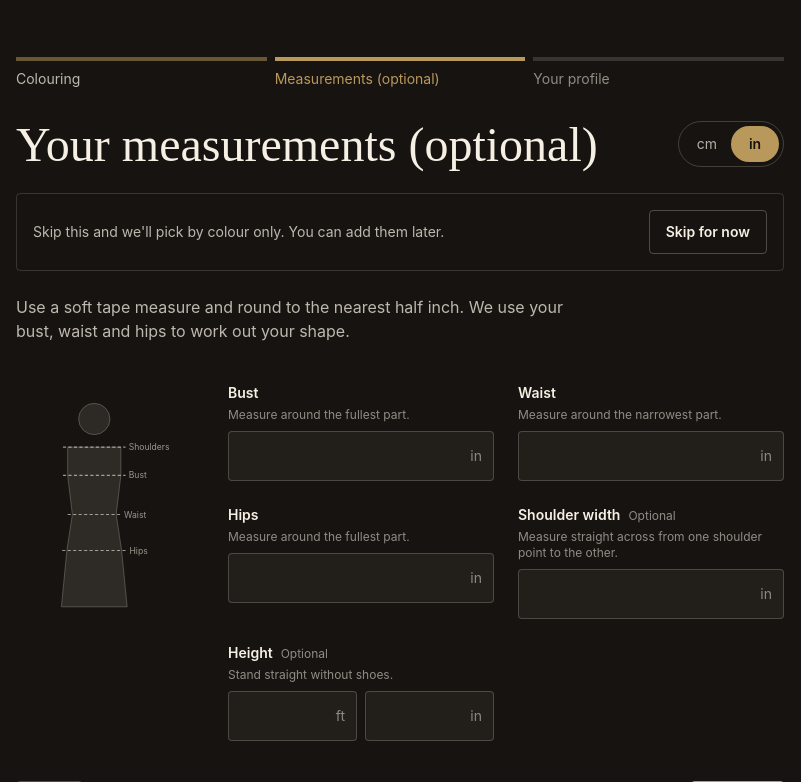
measurement units › states the allowed range in the chosen unit
This screenshot has width=801, height=782.
Type "10" into the number field labelled "Bust Measure around the fullest part. in" at (361, 456), box top-left (228, 431), bottom-right (494, 481)
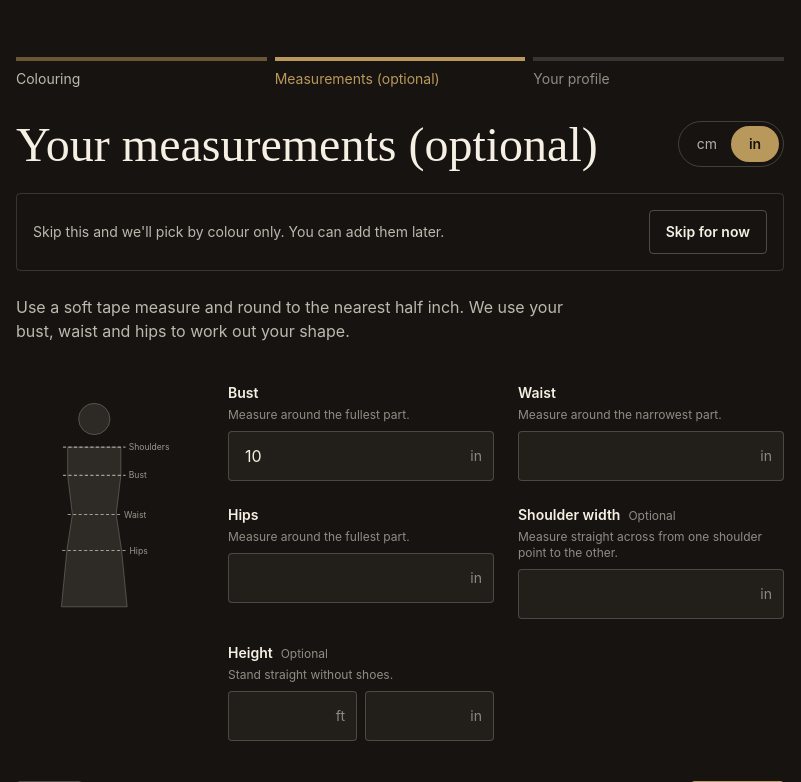
Type "28" into the number field labelled "Waist Measure around the narrowest part. in" at (651, 456), box top-left (518, 431), bottom-right (784, 481)
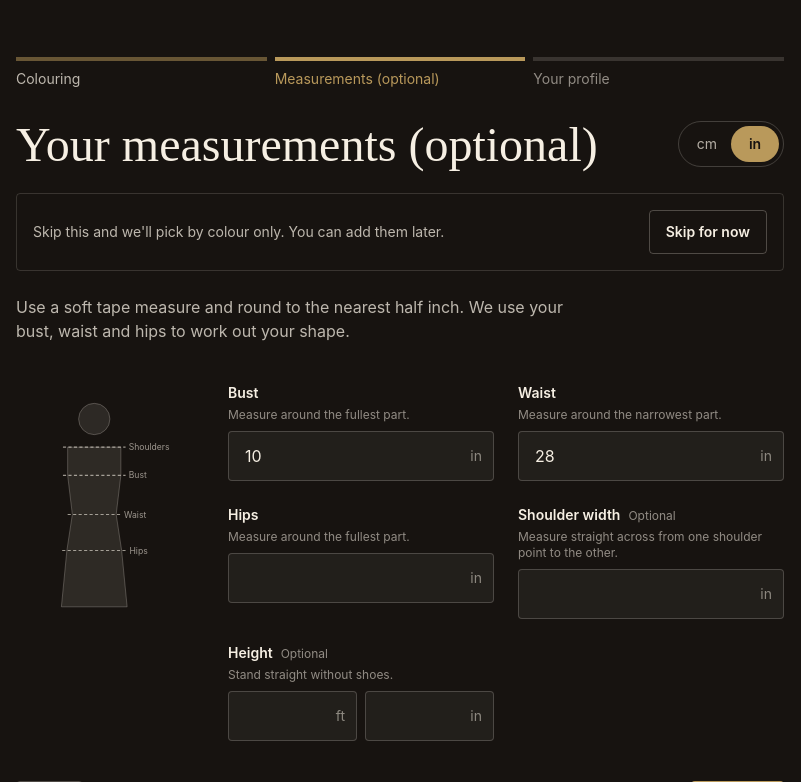
Type "38" into the number field labelled "Hips Measure around the fullest part. in" at (361, 578), box top-left (228, 553), bottom-right (494, 603)
(page scrolled)
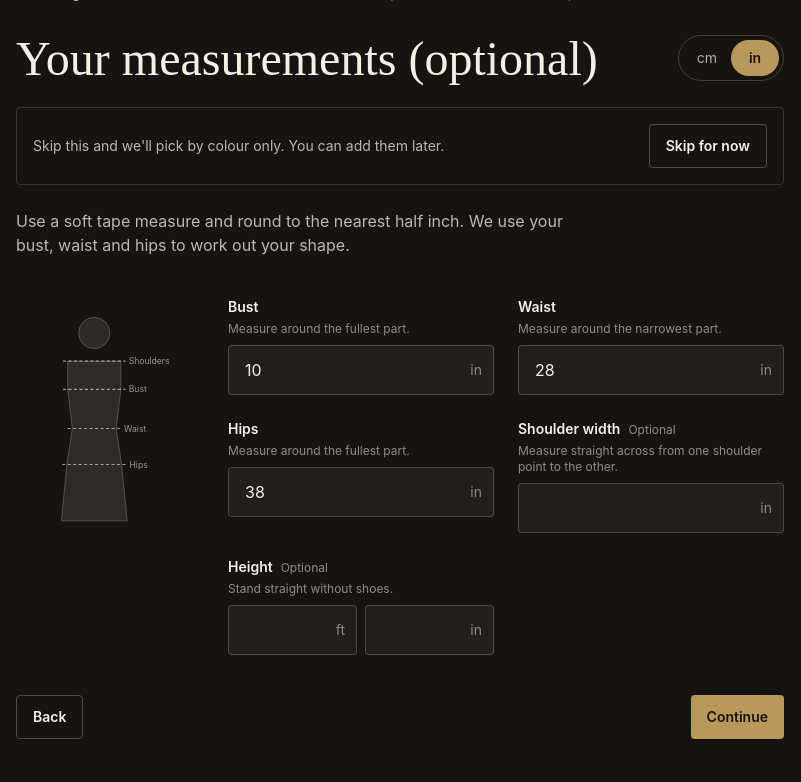
Click the button "Continue" at (737, 717), box top-left (691, 695), bottom-right (784, 739)
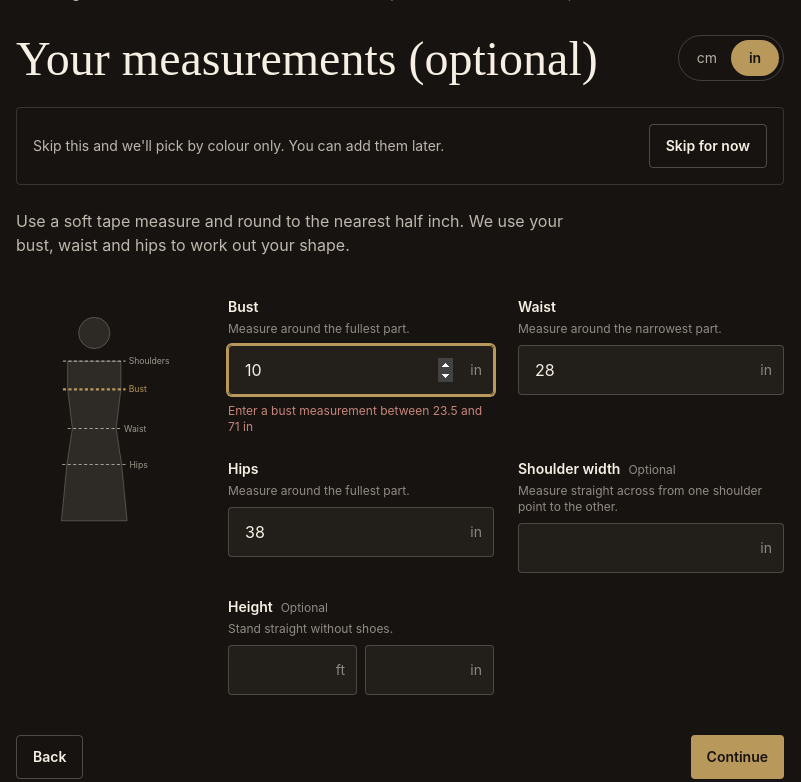
Check: the text "Enter a bust measurement between 23.5 and 71 in" is shown, box top-left (228, 403), bottom-right (494, 435)
